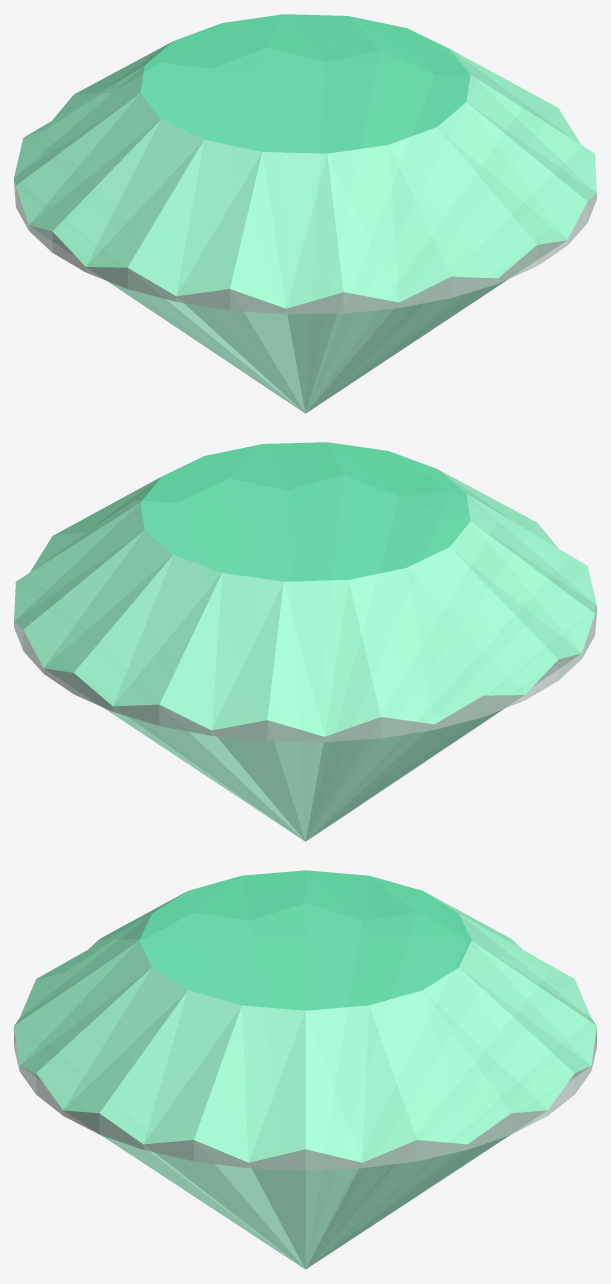
File: diamante.glb
3 views of the same model, one above another, from view 1: azimuth 30°, elevation 25°; view 2: azimuth 150°, elevation 25°; view 3: azimuth 270°, elevation 25° (orthographic).
Visible parts, largest first — view 1: facetas_corona, mesa, facetas_pabellon, cinturon; view 2: facetas_corona, mesa, facetas_pabellon, cinturon; view 3: facetas_corona, mesa, facetas_pabellon, cinturon.
Part boxes in pixels (box(x1,y1,x2,y2)): facetas_corona: box(14, 41, 596, 308); mesa: box(140, 14, 470, 153); facetas_pabellon: box(30, 225, 566, 413); cinturon: box(14, 178, 596, 314); facetas_corona: box(14, 469, 596, 736); mesa: box(140, 442, 470, 581); facetas_pabellon: box(44, 653, 580, 841); cinturon: box(14, 606, 596, 742); facetas_corona: box(14, 891, 596, 1162); mesa: box(139, 870, 471, 1010); facetas_pabellon: box(22, 1067, 588, 1269); cinturon: box(14, 1027, 596, 1170).
Bounding box in the file's own units: 0.42 × 0.2621 × 0.42.
